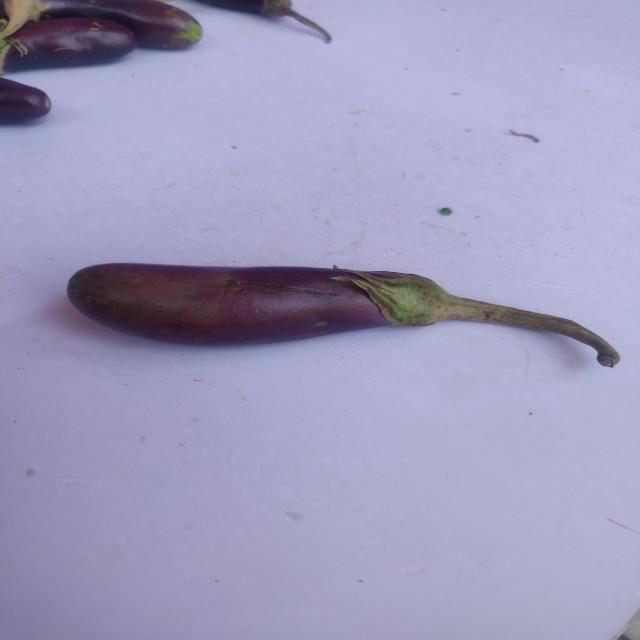Brinjal: (54, 250, 626, 384)
